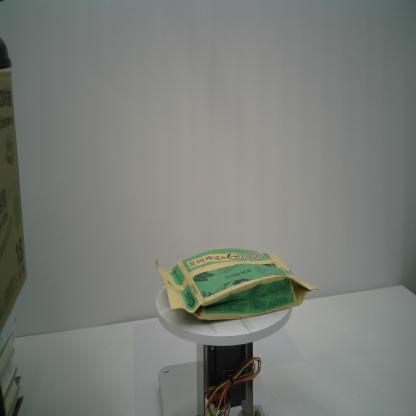Dried Food: (152, 244, 320, 324)
